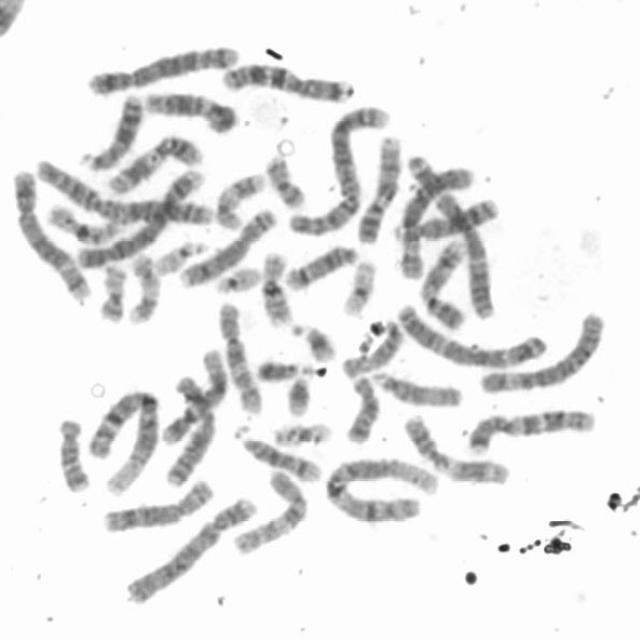A1: (84, 386, 162, 498), (322, 452, 440, 524)
A2: (283, 103, 393, 239), (30, 155, 215, 228)
A3: (402, 149, 496, 323), (392, 299, 549, 371)
B4: (121, 493, 260, 606), (72, 165, 210, 272)
B5: (8, 165, 92, 303), (84, 41, 242, 97)
C10: (228, 467, 308, 557), (213, 300, 263, 415)
C11: (400, 412, 510, 485), (103, 130, 206, 196)
C12: (158, 343, 228, 448), (140, 88, 238, 134)
C6: (475, 307, 607, 397), (395, 158, 476, 282)
C7: (462, 404, 598, 456), (217, 58, 355, 104)
C8: (175, 203, 278, 290), (97, 476, 216, 533)
C9: (352, 131, 405, 245), (418, 236, 468, 330)
D13: (76, 89, 144, 173), (390, 197, 503, 242)
D14: (236, 430, 322, 484), (282, 240, 361, 292)
D15: (336, 316, 404, 381), (370, 366, 463, 408)
E16: (43, 200, 123, 246), (257, 248, 293, 328)
E17: (212, 169, 266, 231), (125, 251, 161, 326)
E18: (54, 414, 92, 493), (341, 371, 381, 445)
F19: (339, 256, 379, 318), (270, 418, 334, 448)
F20: (262, 151, 308, 210), (95, 260, 129, 324)
G21: (287, 319, 338, 364), (283, 371, 313, 418)
G22: (151, 236, 209, 276), (212, 263, 261, 296)
X: (165, 370, 220, 488)
Y: (255, 356, 312, 384)
